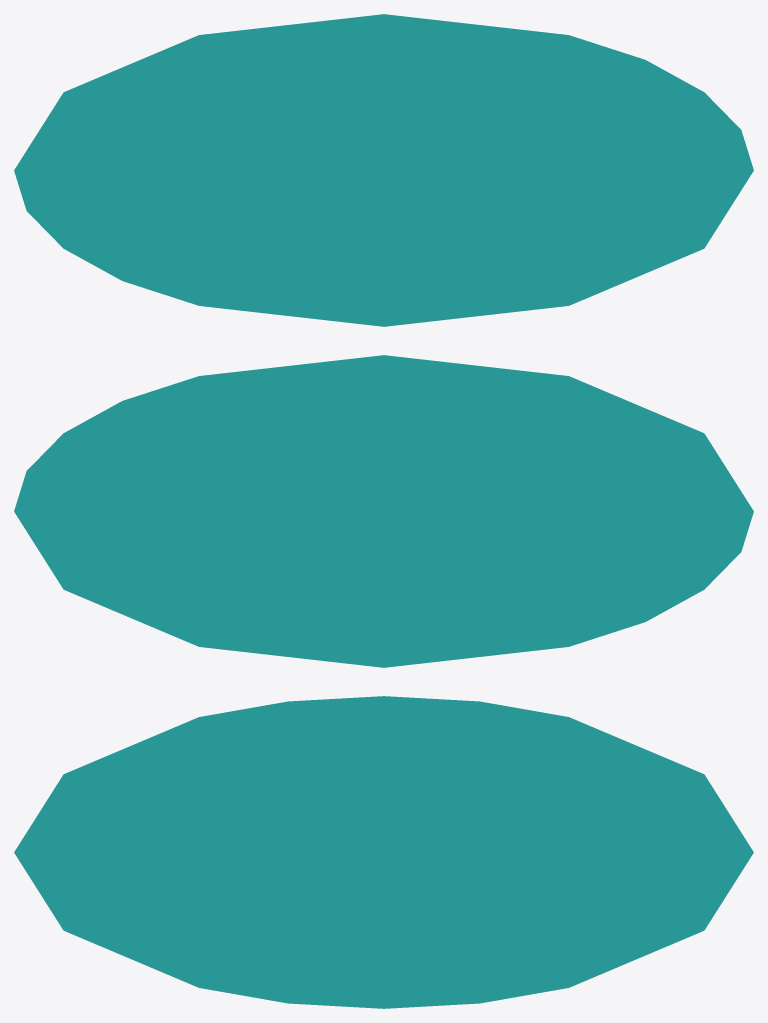
Rendered from frog_color_27.fbx.
The picture shows the model from 3 angles, top to bottom: view 1: azimuth 30°, elevation 25°; view 2: azimuth 150°, elevation 25°; view 3: azimuth 270°, elevation 25°; orthographic projection.
Parts seen in each view (by area): view 1: frog_color_27; view 2: frog_color_27; view 3: frog_color_27.
Part boxes in pixels (<box>): frog_color_27: <box>14,14,753,326</box>; frog_color_27: <box>14,355,753,667</box>; frog_color_27: <box>14,696,753,1008</box>.
Bounding box in the file's own units: 12.41 × 0 × 12.41.
